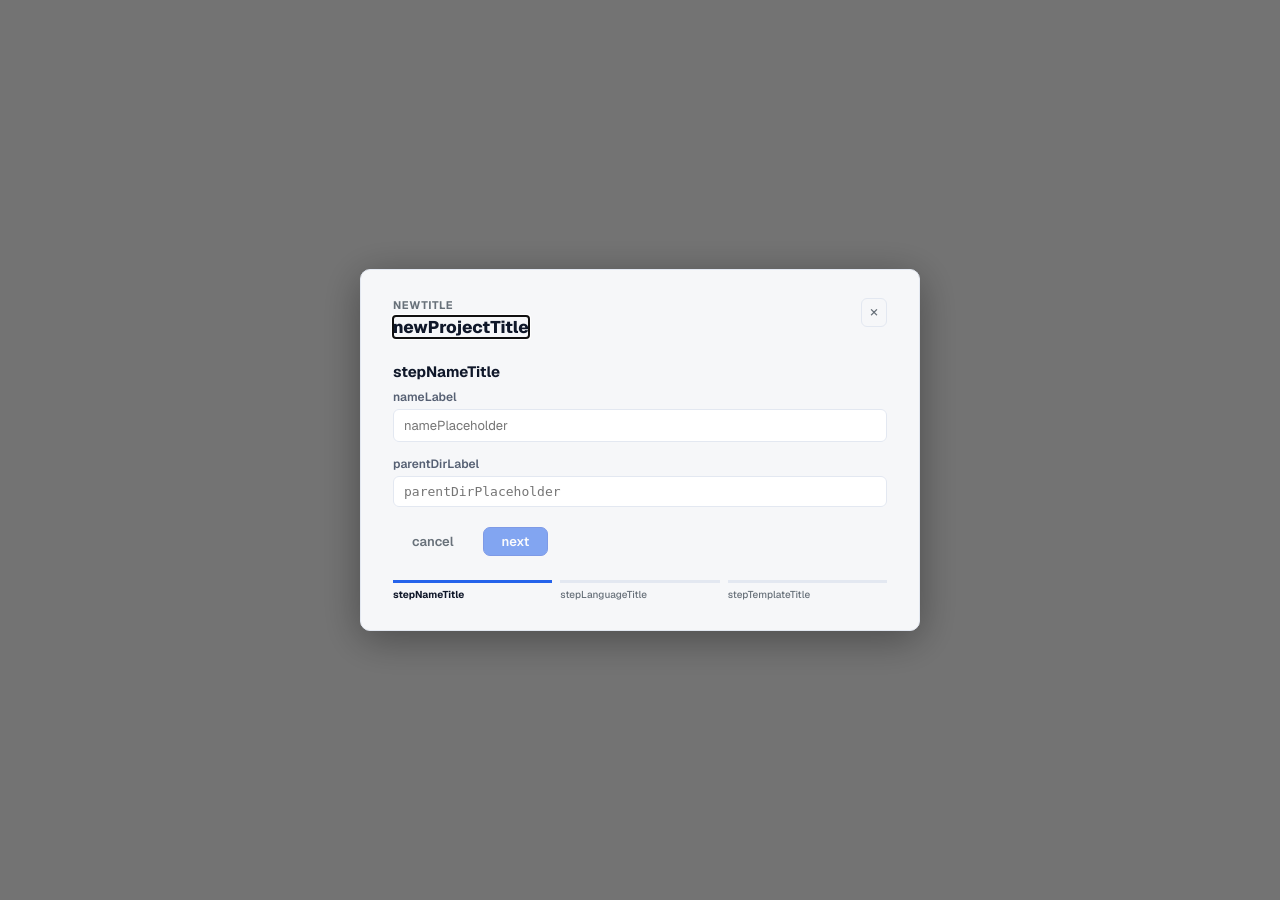
it: NewProjectWizard — step 2 language gating › clicking Next with a language advances to step 3
The image size is (1280, 900).
Type "My Vault" into the field with test id "np-name" at (640,426), box [393,409,887,442]
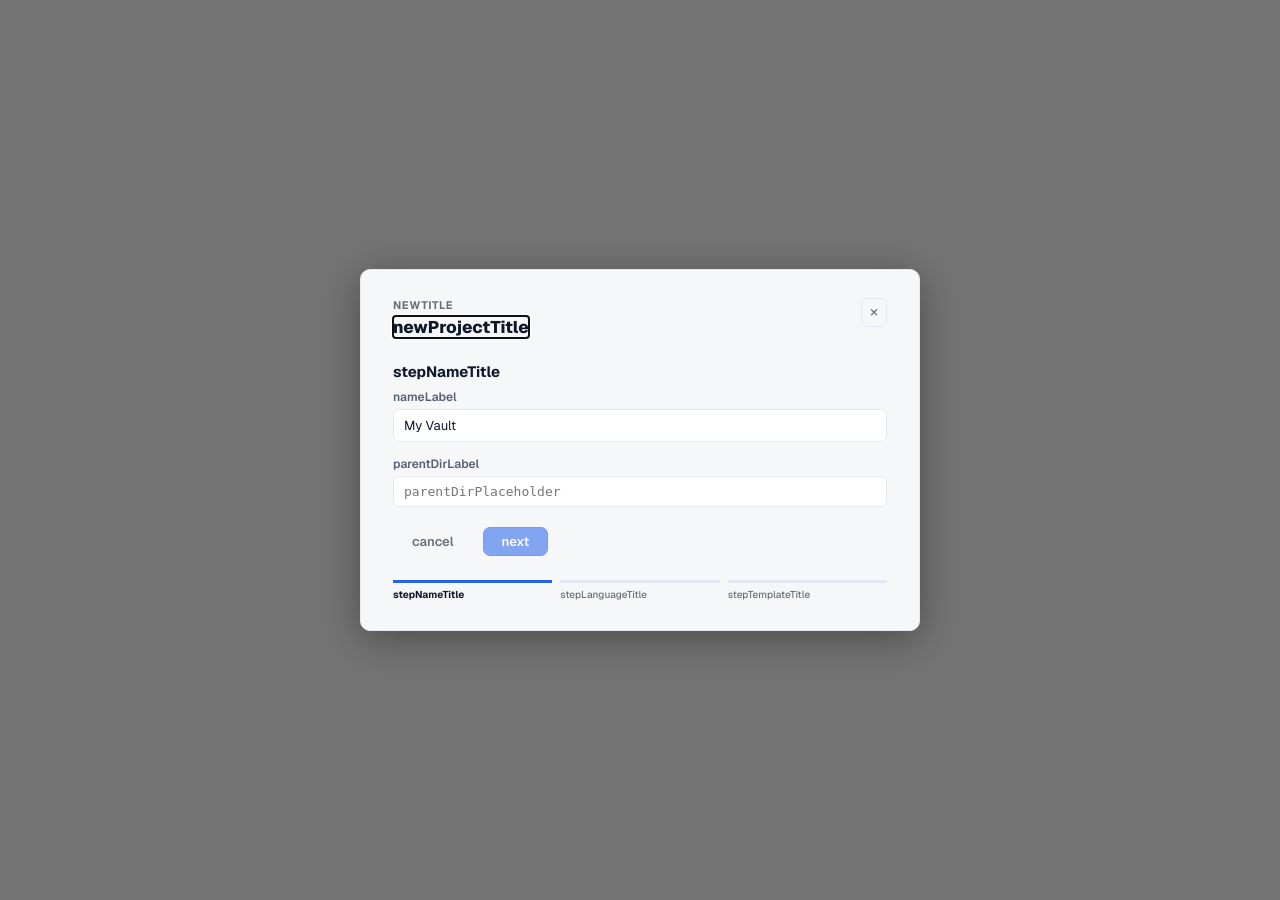
Type "/data/vaults" into the field with test id "np-parent-dir" at (640,492), box [393,476,887,507]
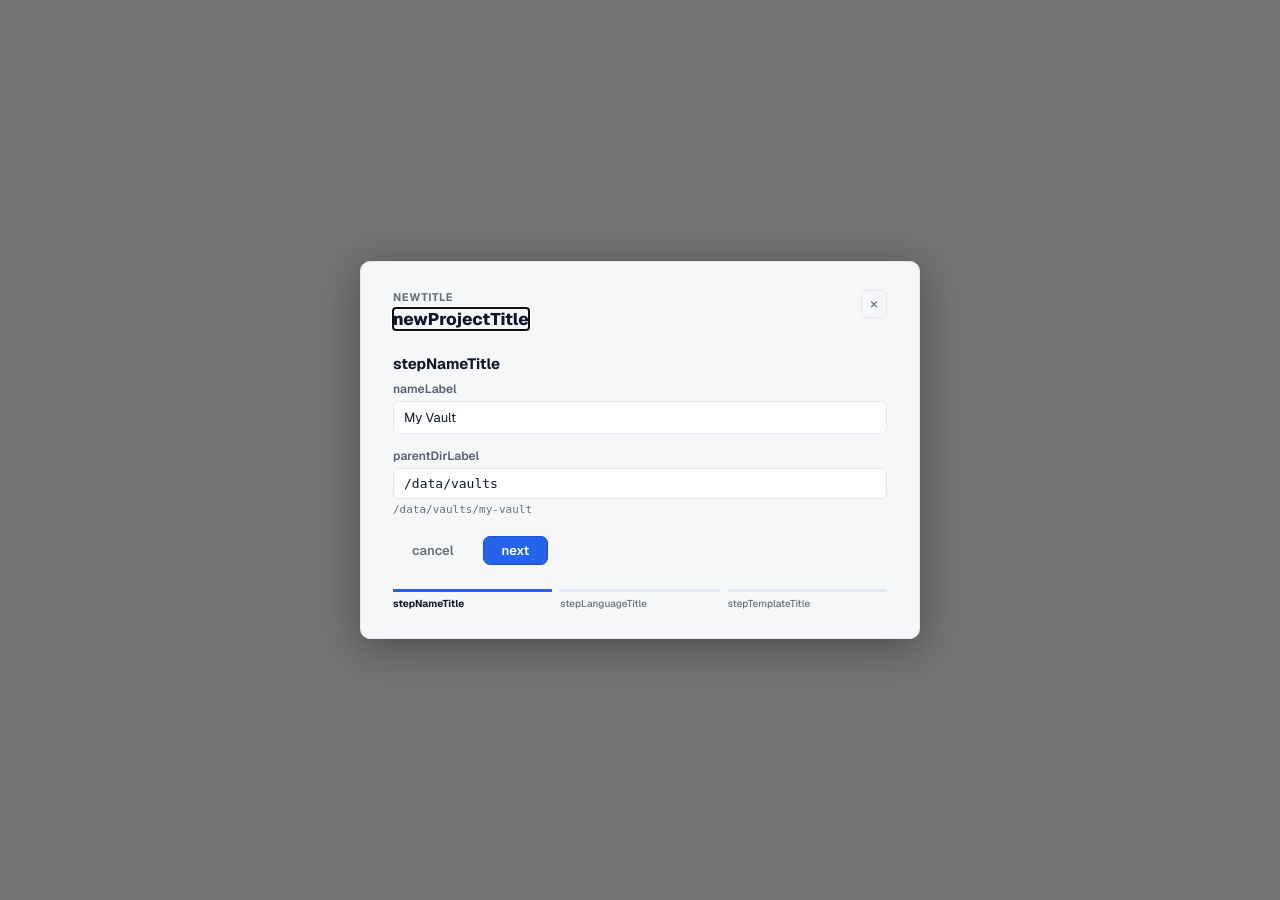
Click the button with test id "np-next" at (515,550), box [483,536,548,565]
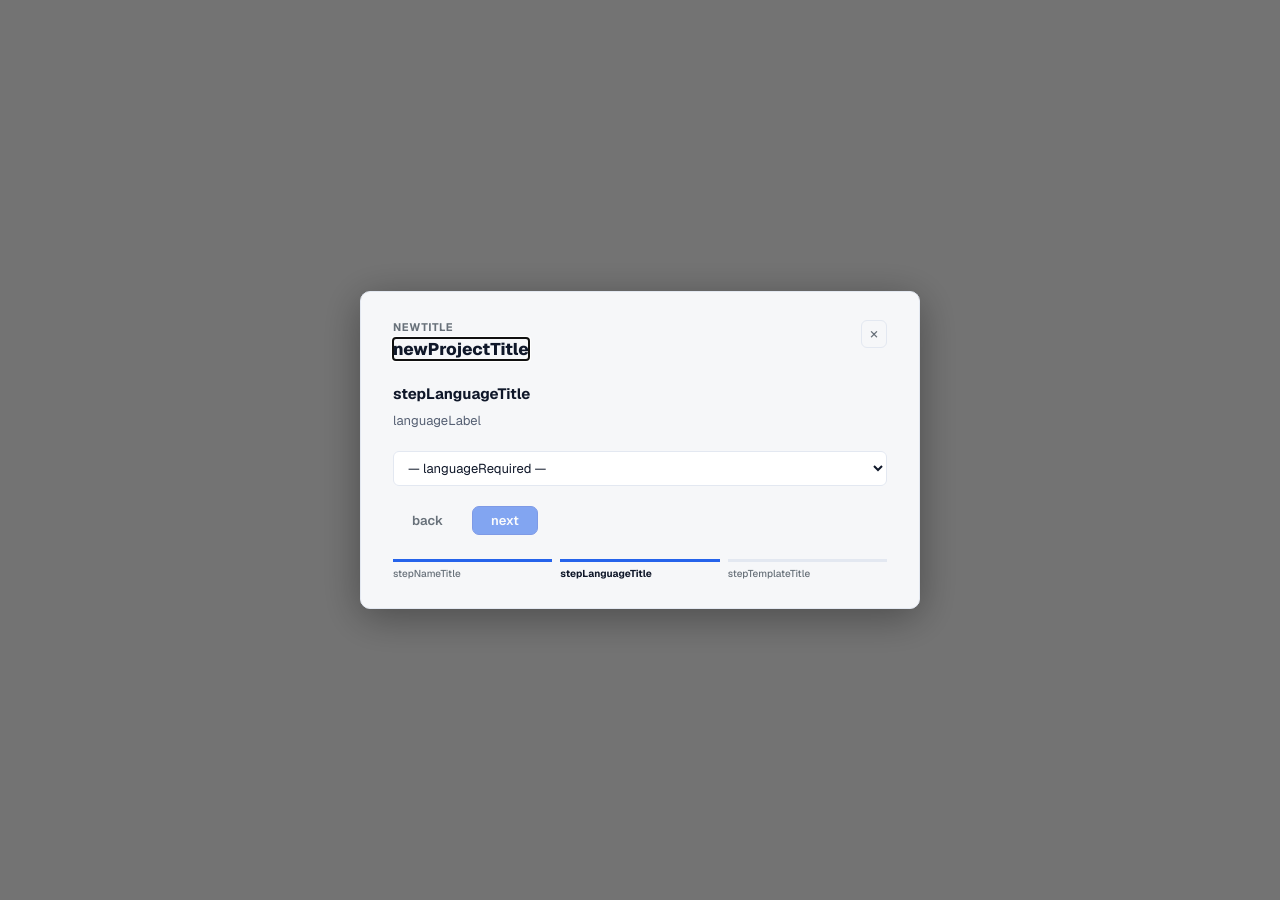
Result: the dropdown with test id "np-language" is shown
Select "English" in the dropdown with test id "np-language" at (640,468), box [393,450,887,486]
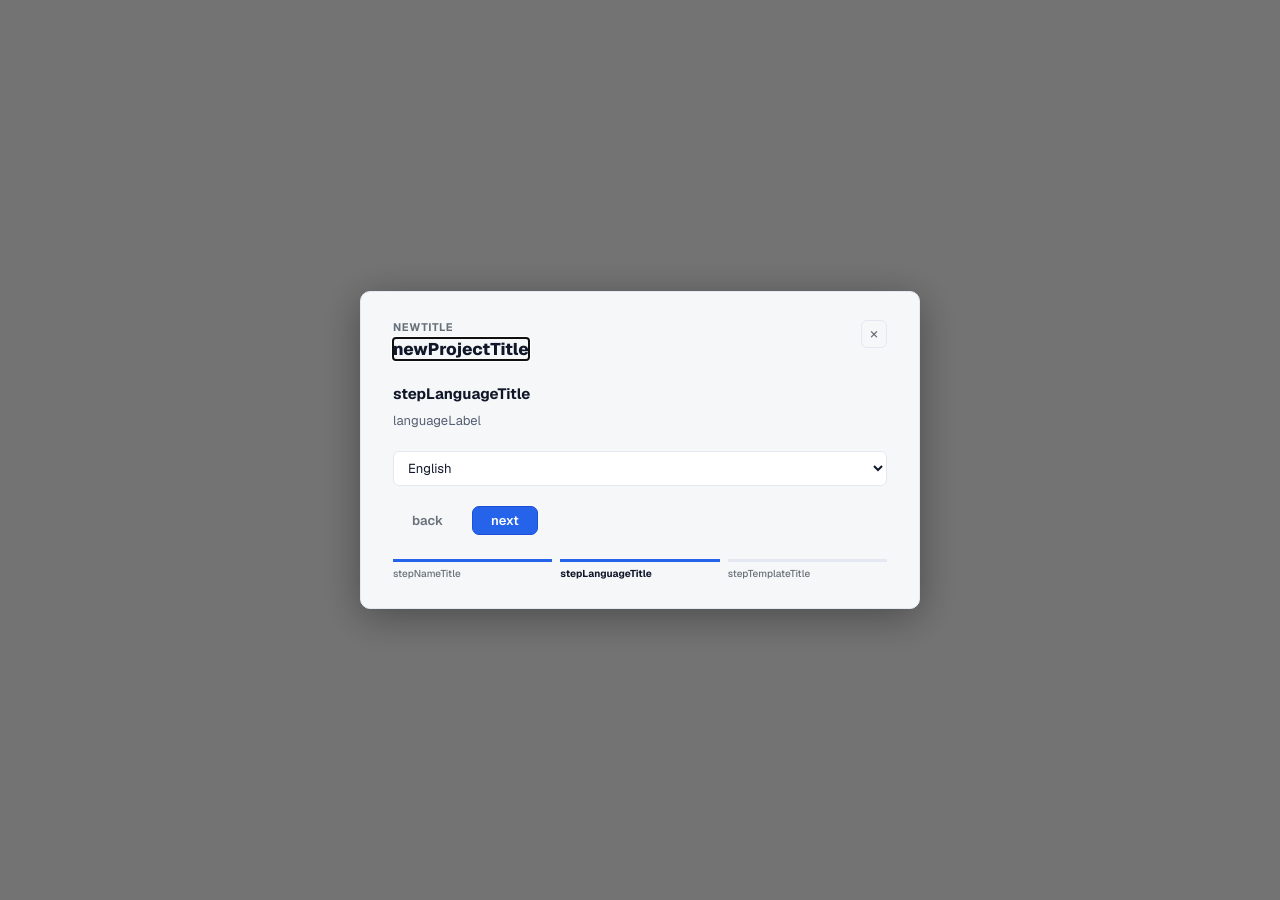
Click the button with test id "np-next-lang" at (505,520), box [472,506,538,534]
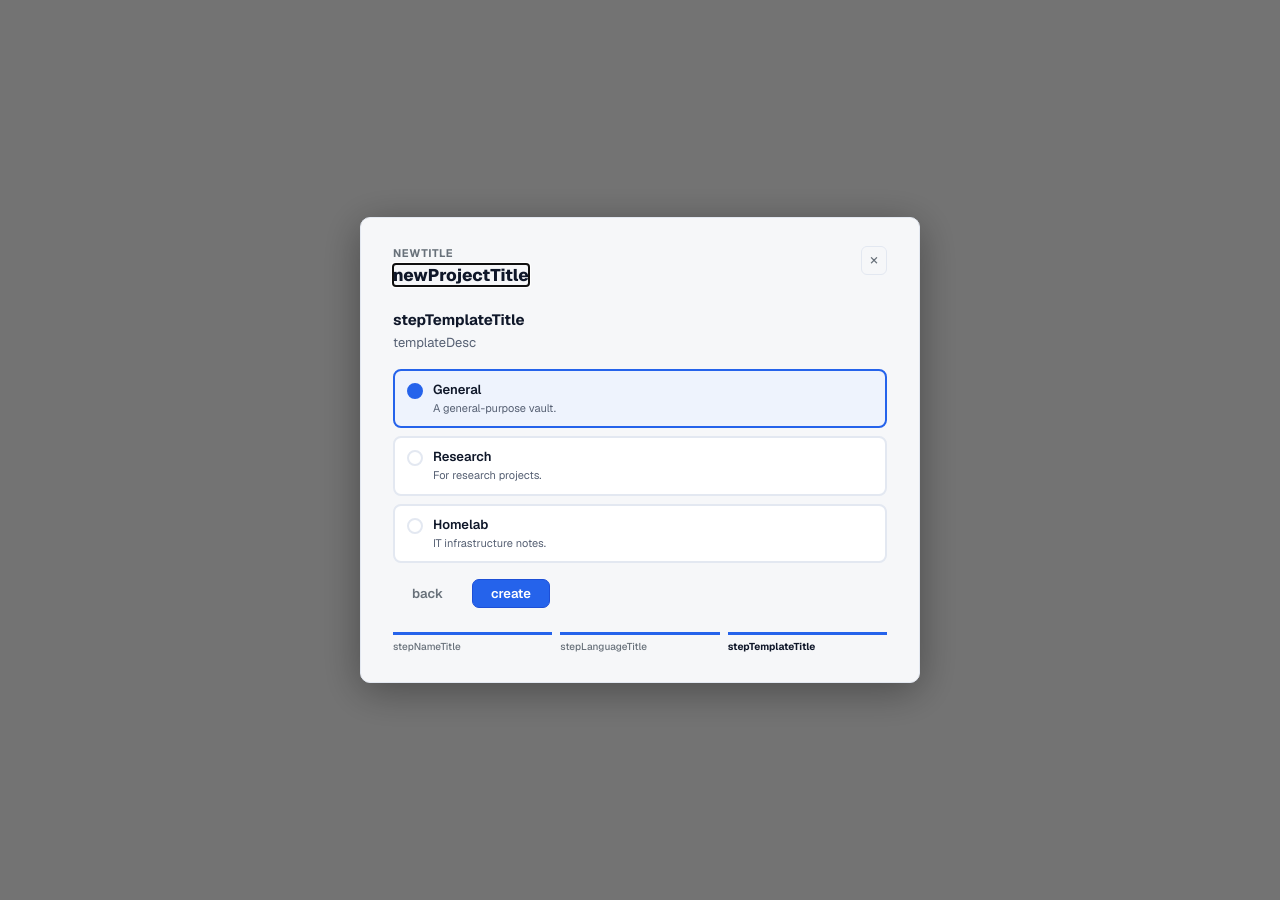
Result: the dropdown with test id "np-language" is gone
Result: the button with test id "np-create" is shown at [472,579,550,608]
